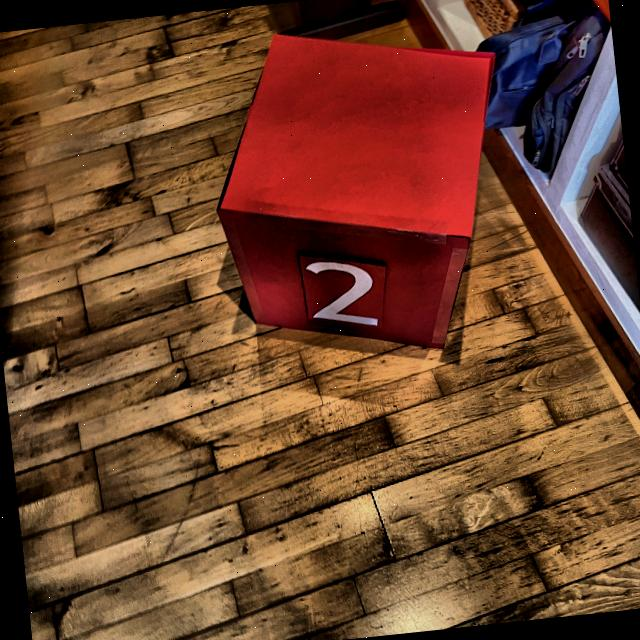red box: (198, 7, 522, 372)
two: (302, 254, 383, 336)
